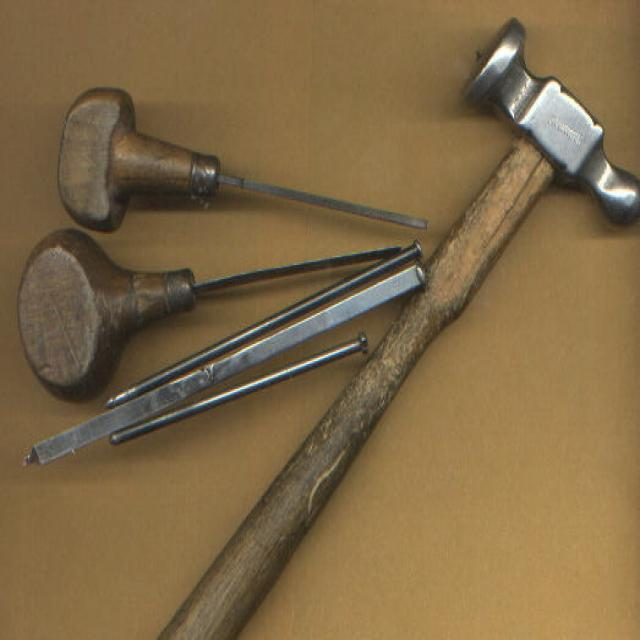hammer: (437, 20, 640, 329)
screwdriver: (44, 64, 433, 247)
